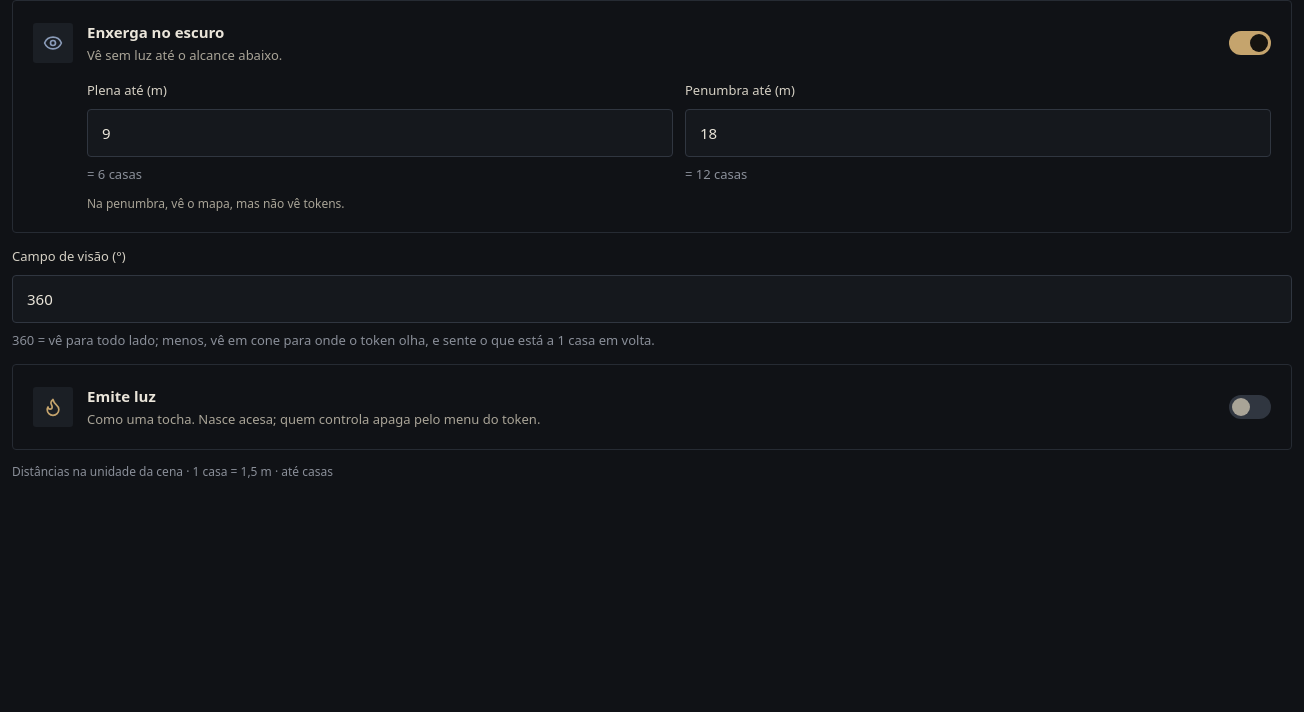
VisionLightTab, "Emite luz" › switched on, it shows the torch: plena until 6 and penumbra until 12
What coordinates should you click on to do the following:
click the switch named "Emite luz" in the row of "Emite luz"
I would click on:
 (1250, 407)
Its box is [1229,395,1271,419].
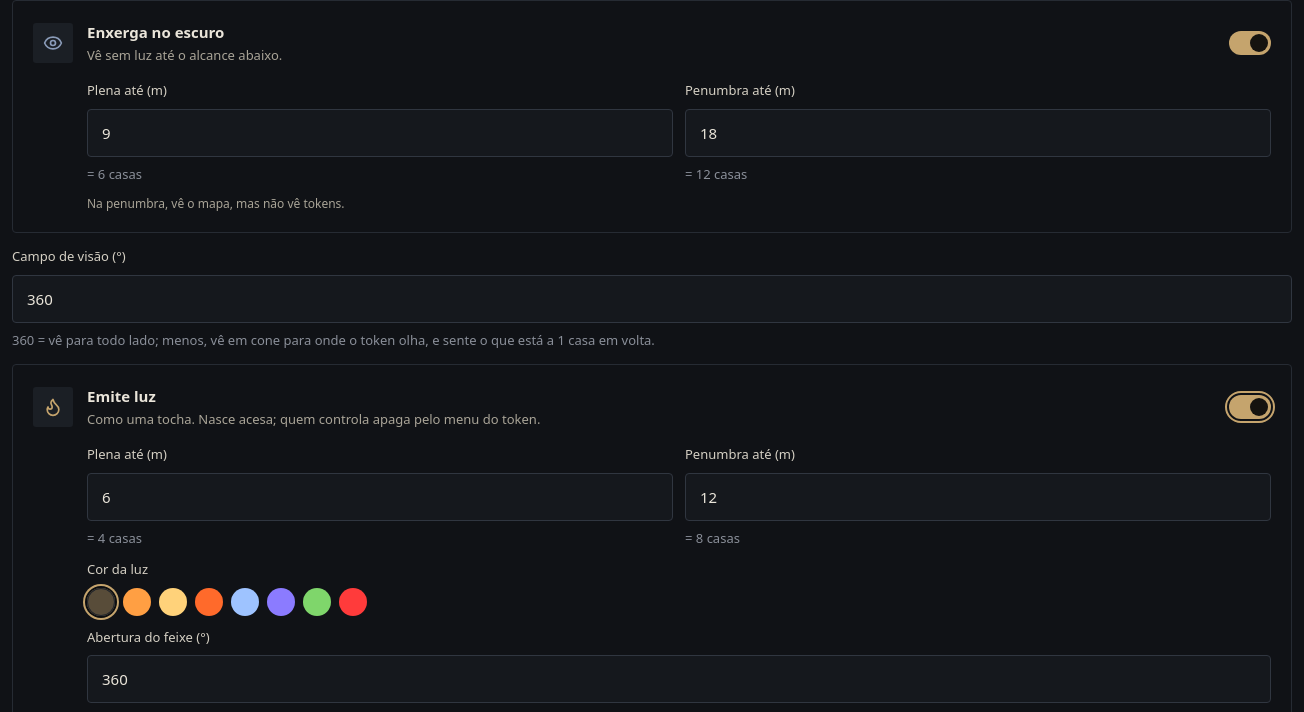
Expected: the field labelled "Plena até (m)" below "Emite luz" holds "6", [87,472,673,520]
Expected: the 2nd field labelled "Penumbra até (m)" holds "12", [685,472,1271,520]
